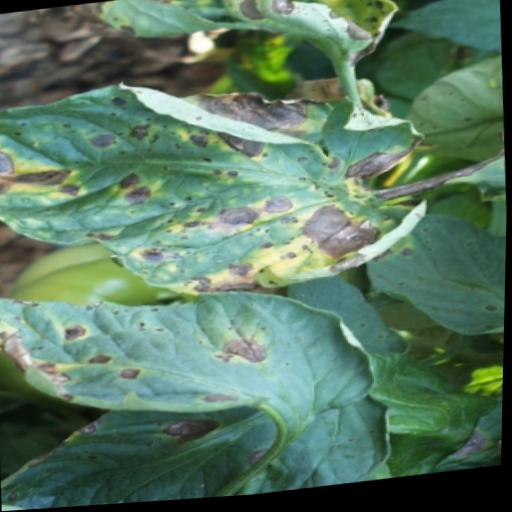Early Blight: (0, 46, 455, 320), (0, 253, 385, 450), (65, 0, 404, 91)
